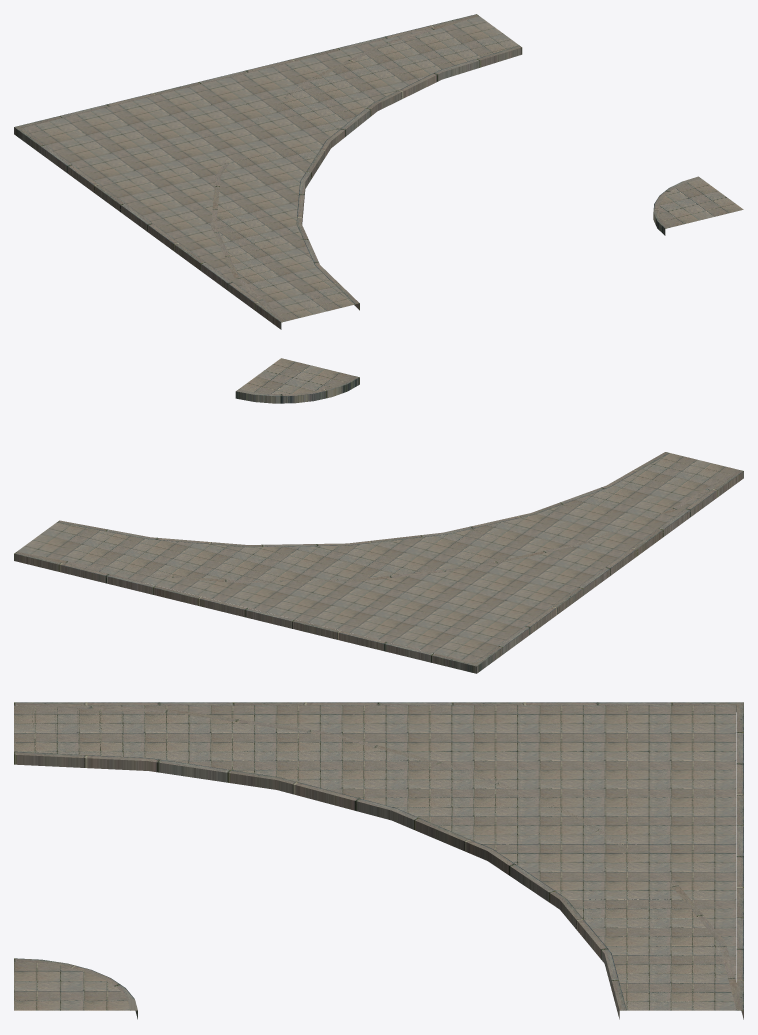
The model's file is bibeko-50-bocht-klein-stoep.FBX.
3 renders of one model, top to bottom at view 1: azimuth 30°, elevation 25°; view 2: azimuth 150°, elevation 25°; view 3: azimuth 270°, elevation 25°, orthographic. The views are drawn at different scales.
Parts seen in each view (by area): view 1: StoepRand (×2), Stoeprand Buiten (×2), StoepRandBinnen, Stoep, StoepRandBuiten, StoepRandBinnen001; view 2: StoepRand (×2), Stoeprand Buiten (×2), Stoep, StoepRandBinnen, StoepRandBuiten, StoepZijkant; view 3: StoepRand (×2), StoepRandBinnen, Stoeprand Buiten (×2), Stoep, StoepRandBuiten, StoepRandBinnen001, StoepZijkant.
Boxes of the visible parts, x1=… form: StoepRand (×2): x1=22, y1=16, x2=518, y2=321; Stoeprand Buiten (×2): x1=14, y1=14, x2=478, y2=329; StoepRandBinnen: x1=296, y1=45, x2=522, y2=303; Stoep: x1=658, y1=178, x2=743, y2=227; StoepRandBuiten: x1=211, y1=16, x2=476, y2=319; StoepRandBinnen001: x1=299, y1=45, x2=521, y2=310; StoepRand (×2): x1=17, y1=453, x2=738, y2=663; Stoeprand Buiten (×2): x1=14, y1=470, x2=743, y2=673; Stoep: x1=239, y1=358, x2=354, y2=393; StoepRandBinnen: x1=57, y1=452, x2=669, y2=547; StoepRandBuiten: x1=14, y1=471, x2=737, y2=583; StoepZijkant: x1=235, y1=376, x2=359, y2=403; StoepRand (×2): x1=14, y1=705, x2=736, y2=1010; StoepRandBinnen: x1=14, y1=751, x2=626, y2=1019; Stoeprand Buiten (×2): x1=14, y1=702, x2=743, y2=1010; Stoep: x1=14, y1=961, x2=130, y2=1010; StoepRandBuiten: x1=16, y1=705, x2=743, y2=1019; StoepRandBinnen001: x1=14, y1=752, x2=626, y2=1010; StoepZijkant: x1=14, y1=958, x2=137, y2=1019.
Size of the model in its own units: 394 by 6.01 by 394.
1 material, 1 textured.
